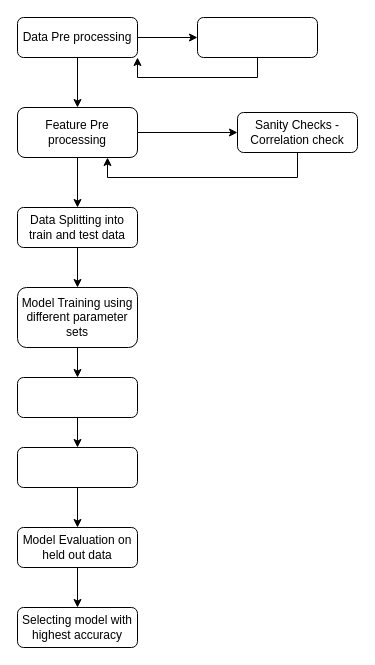
This 375x665 diagram has some shape labels left out. The shapes that lost their labels are listed below. From the top down, each one's box as (x1, y1, x2, y2) in pixels, then its label:
(196, 16, 318, 58): Sanity Checks - Null check
(16, 376, 138, 418): Model Evaluation on validation data
(16, 446, 138, 488): Model Saving & Loading
